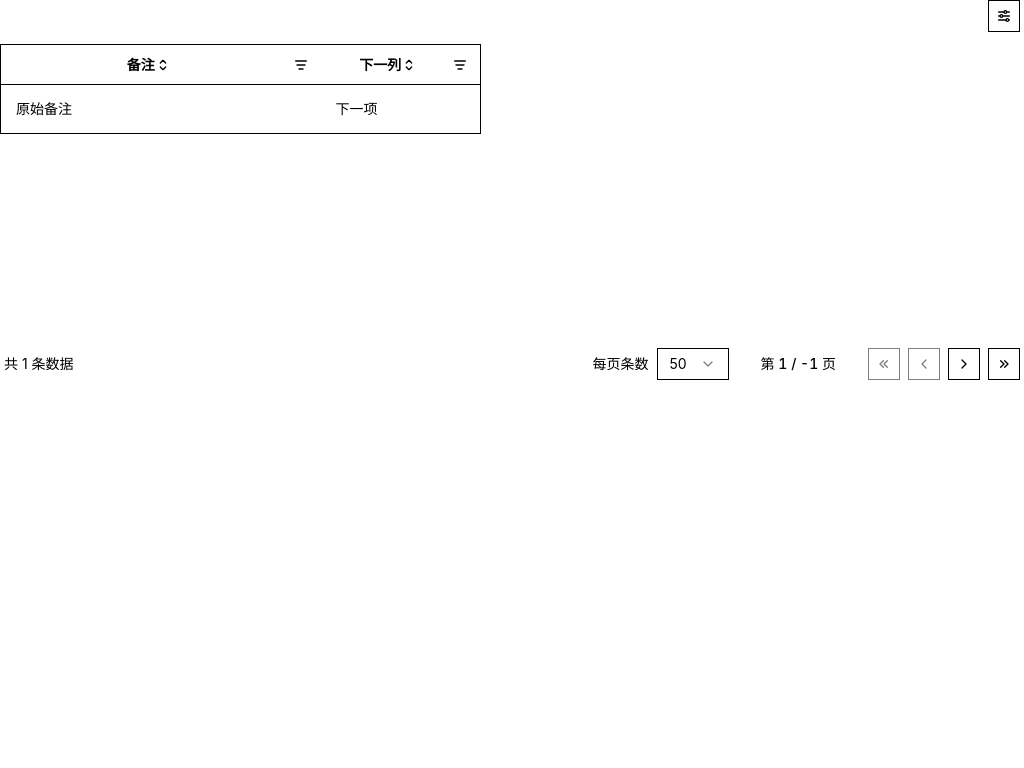
Test: DataTableEditableTextareaCell › shows validation errors, limits input length, and keeps a blocked submit open
The image size is (1024, 768).
Step 1. Double-click the cell "原始备注" → (44, 108), box 0,85 -> 320,133
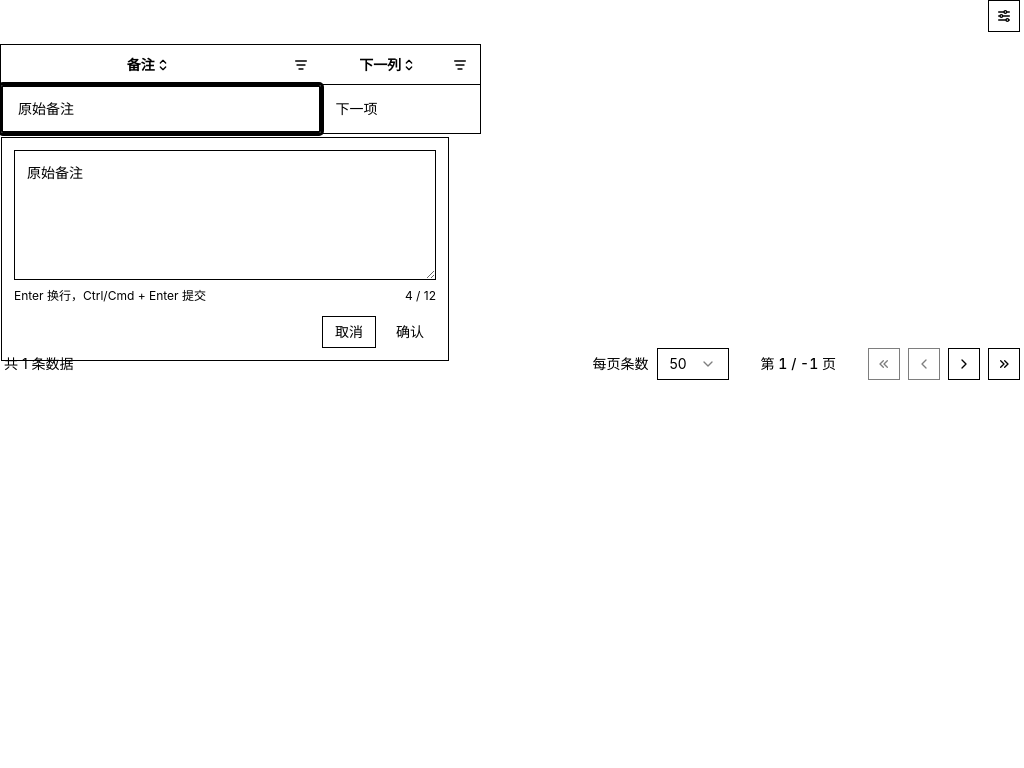
Step 2. Replace the text in the text box named "编辑备注" with "a" → (225, 215), box 15,151 -> 435,279
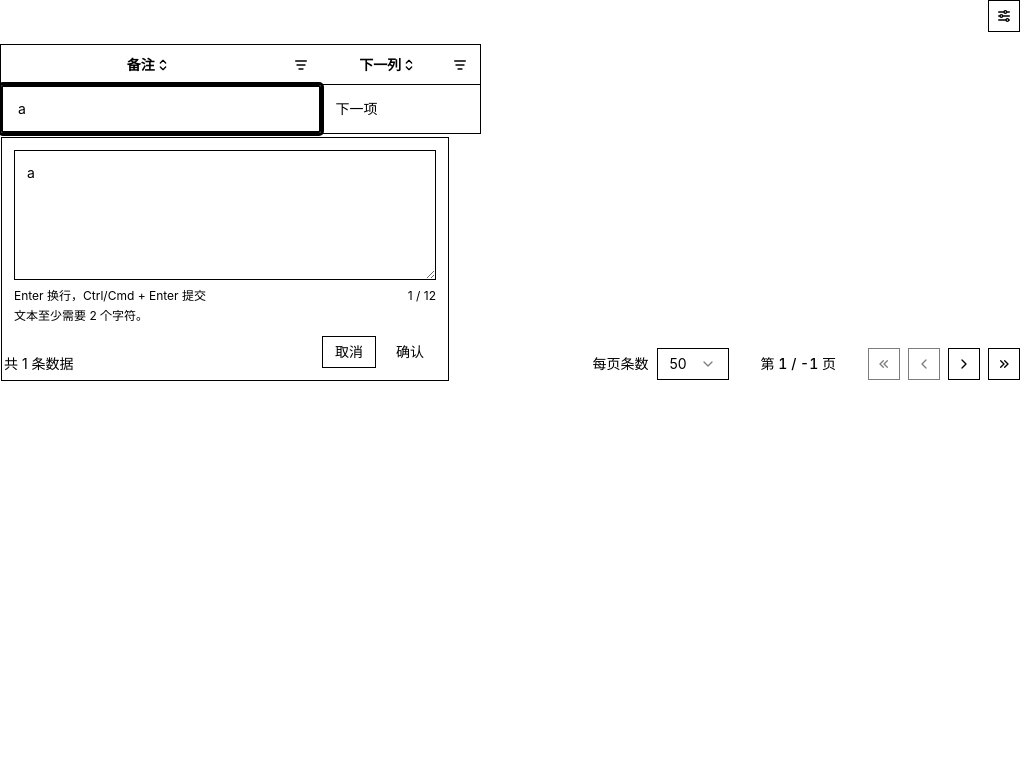
Expected: the message reads "文本至少需要 2 个字符。", 14,308 -> 148,323
Step 3. Type keys "{Control>}{Enter}{/Control}"
Expected: the cell "a" has attribute data-cell-editing="true", 0,85 -> 320,133
Step 4. Replace the text in the text box named "编辑备注" with "123456789012345" → (225, 215), box 15,151 -> 435,279
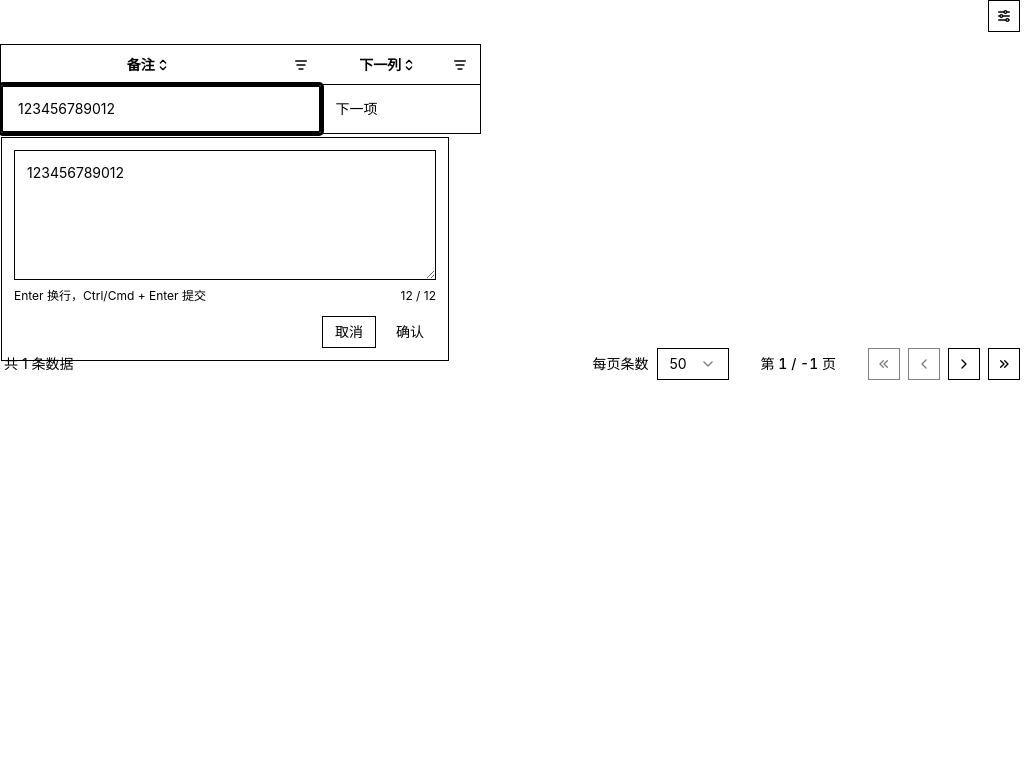
Expected: the text box named "编辑备注" holds "123456789012", 15,151 -> 435,279
Expected: the dialog named "备注多行文本编辑器" shows "12 / 12", 400,288 -> 436,303
